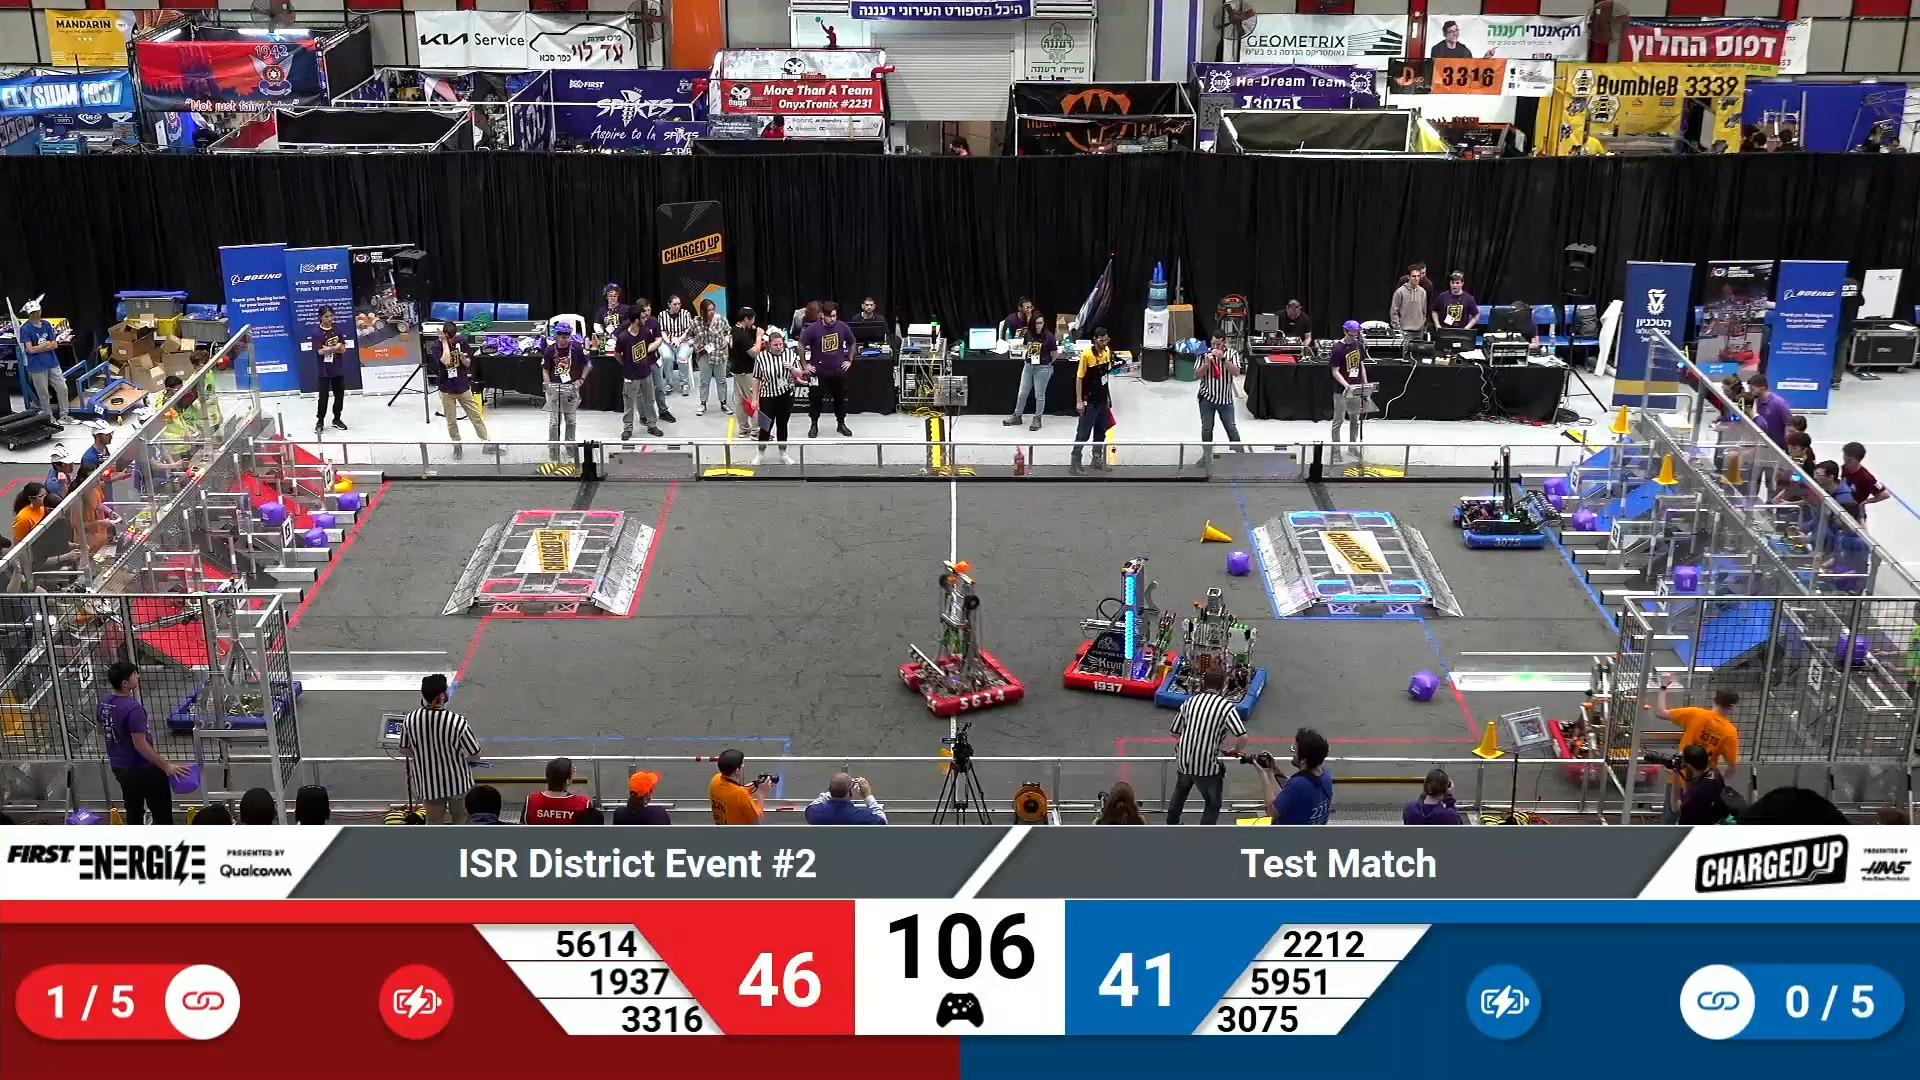robot: (70, 583, 287, 731), (890, 556, 1027, 716), (1063, 553, 1182, 698), (1151, 585, 1273, 717), (1548, 653, 1660, 779), (1452, 446, 1555, 550)
